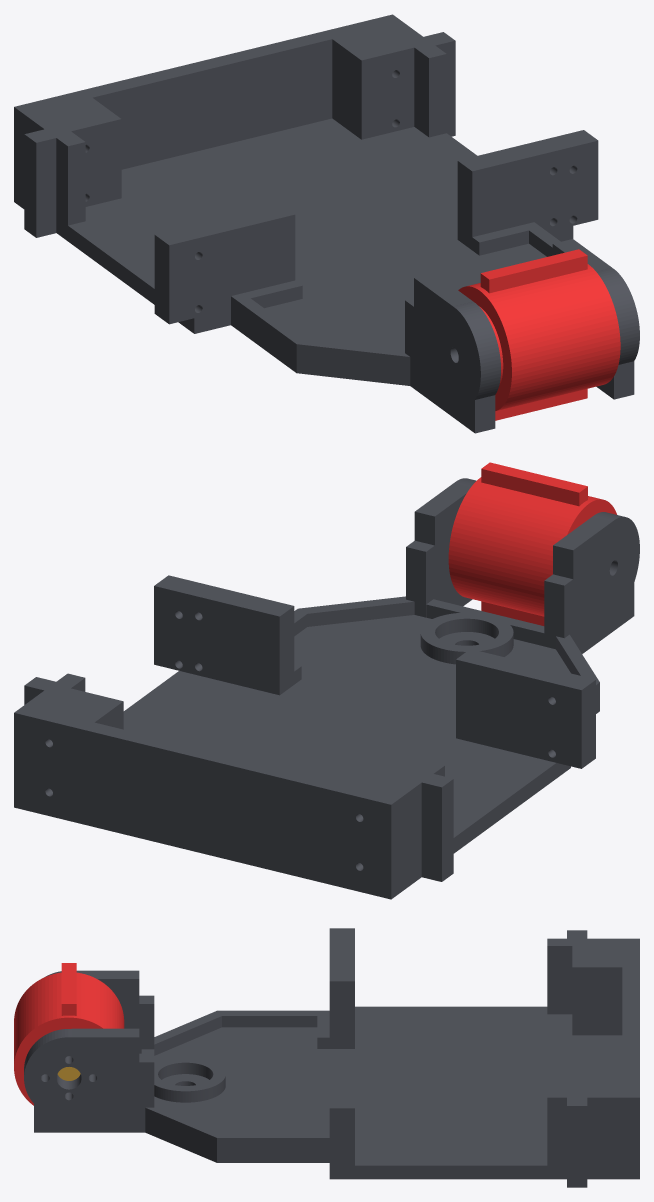
The picture shows the model from 3 angles, top to bottom: view 1: azimuth 30°, elevation 25°; view 2: azimuth 150°, elevation 25°; view 3: azimuth 270°, elevation 25°; orthographic projection. The views are drawn at different scales.
Parts seen in each view (by area): view 1: FC-04_0, FC-04_1; view 2: FC-04_0, FC-04_1; view 3: FC-04_0, FC-04_1.
Boxes of the visible parts, x1,y1,x2,y2 form: FC-04_0: (14, 14, 639, 433); FC-04_1: (458, 249, 620, 420); FC-04_0: (14, 478, 639, 899); FC-04_1: (448, 462, 616, 625); FC-04_0: (24, 928, 639, 1187); FC-04_1: (14, 963, 124, 1105).
Bounding box in the file's own units: 170 × 54 × 250.
